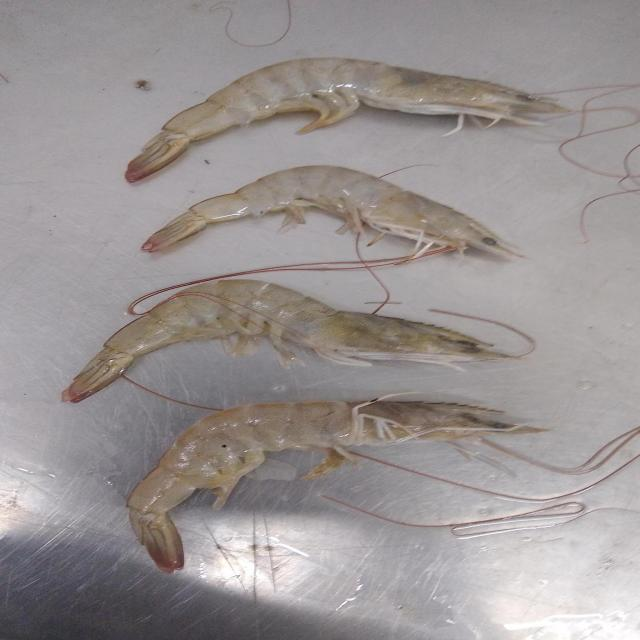shrimp: (127, 399, 542, 572), (62, 280, 511, 402), (124, 58, 569, 181), (142, 165, 518, 256)
